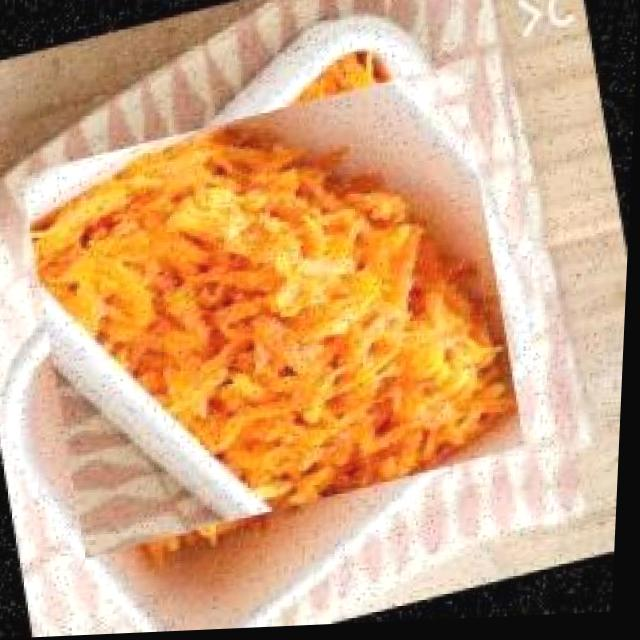carrot_eggs: (17, 56, 532, 572)
